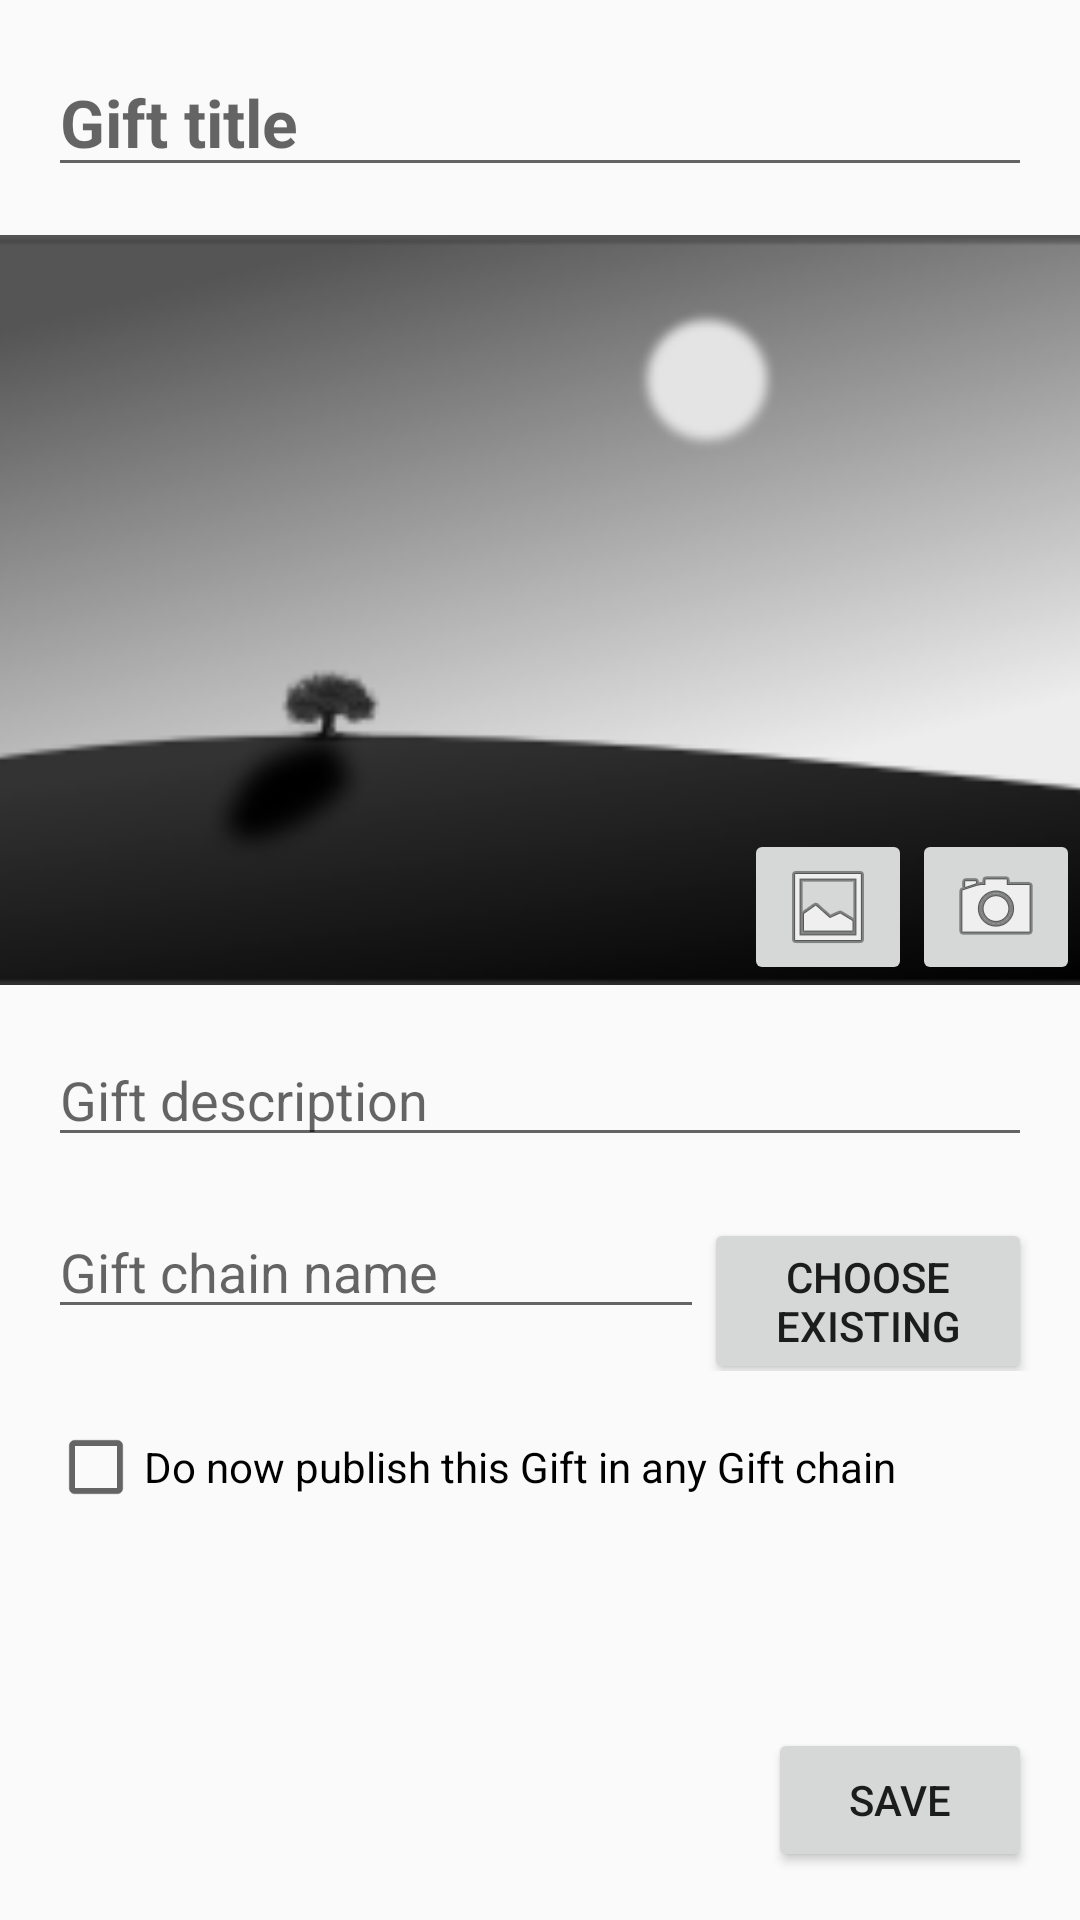

Point at icon controls on the screen. Image size 1080px×1920px, points as point (x, y).
camera: point (1002, 913)
gallery: point (828, 907)
